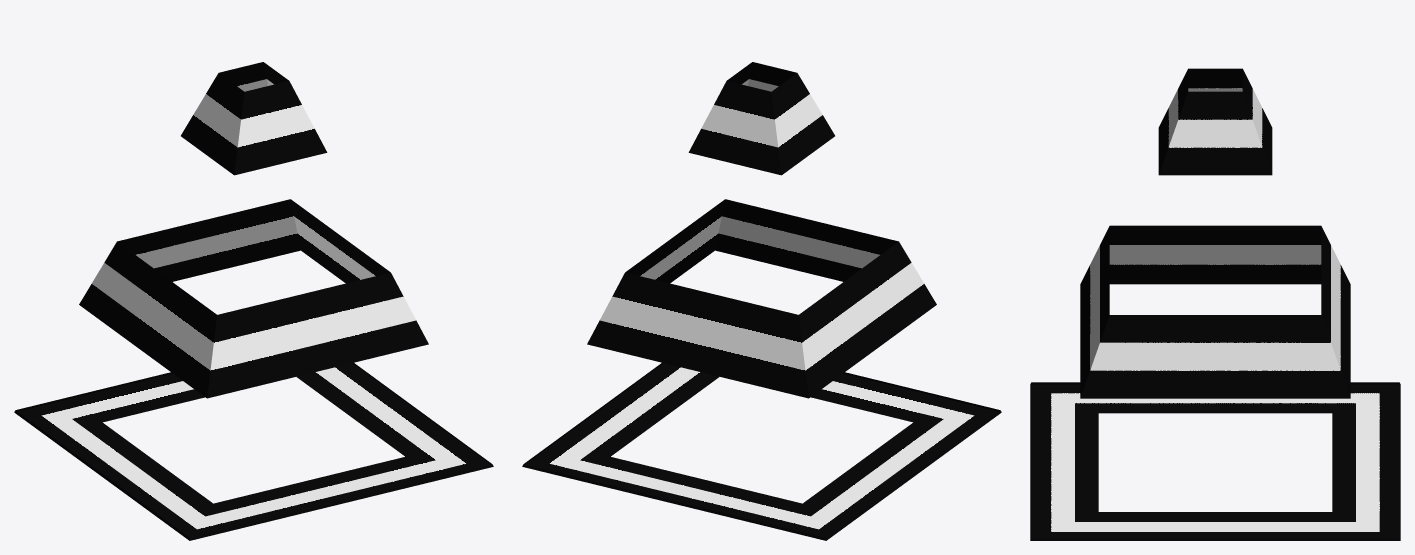
Rendered from gravArrowB.fbx.
3 renders of one model, left to right at view 1: azimuth 30°, elevation 25°; view 2: azimuth 150°, elevation 25°; view 3: azimuth 270°, elevation 25°, orthographic. The views are drawn at different scales.
Visible parts, largest first — view 1: Cube; view 2: Cube; view 3: Cube.
Part boxes in pixels (box(x1,y1,x2,y2)): Cube: box(14, 62, 493, 540); Cube: box(522, 62, 1001, 540); Cube: box(1030, 68, 1400, 540).
Bounding box in the file's own units: 2.99 × 4 × 2.99.
